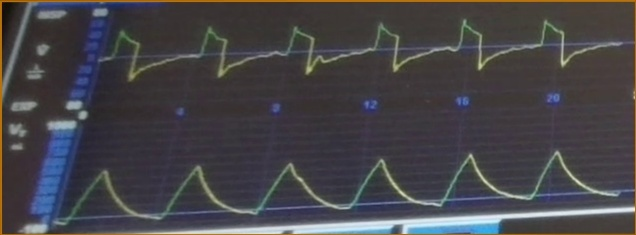Premature_cycling Flow: (102, 17, 611, 91)
Premature_cycling Volume: (67, 150, 616, 221)
